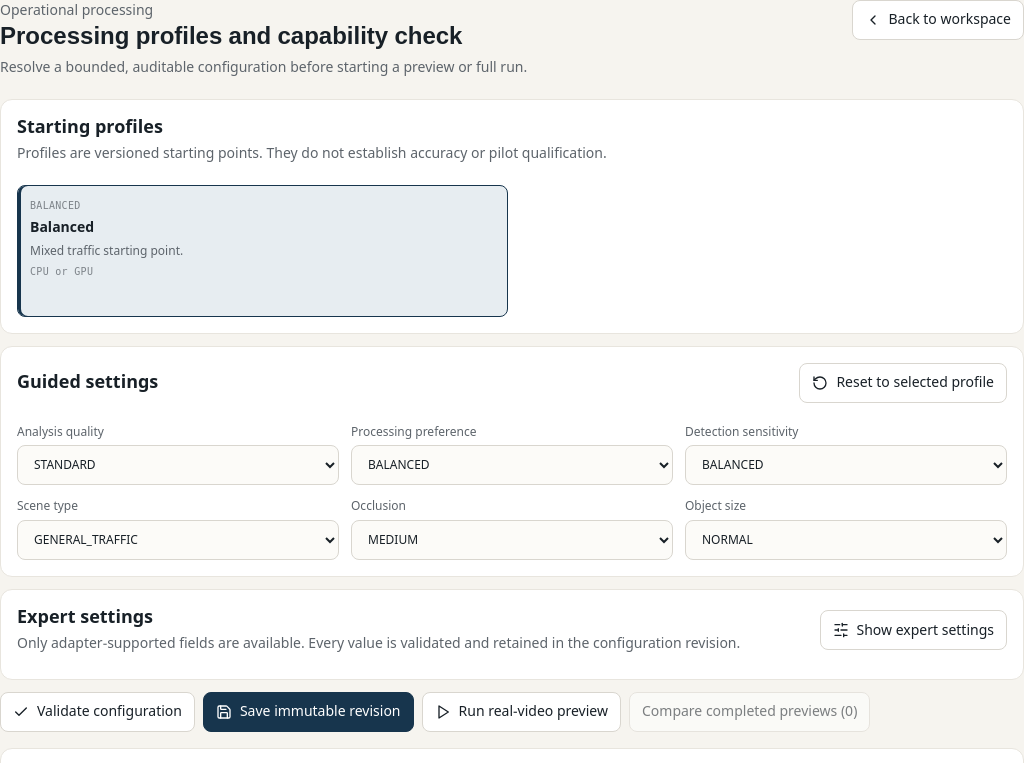
Test case: operational settings workspace › routes a managed upload to a bounded REAL_VIDEO preview without fixture_id
The image size is (1024, 763).
Click the button "Run real-video preview": (521, 712) [422, 692, 621, 732]
(page scrolled)
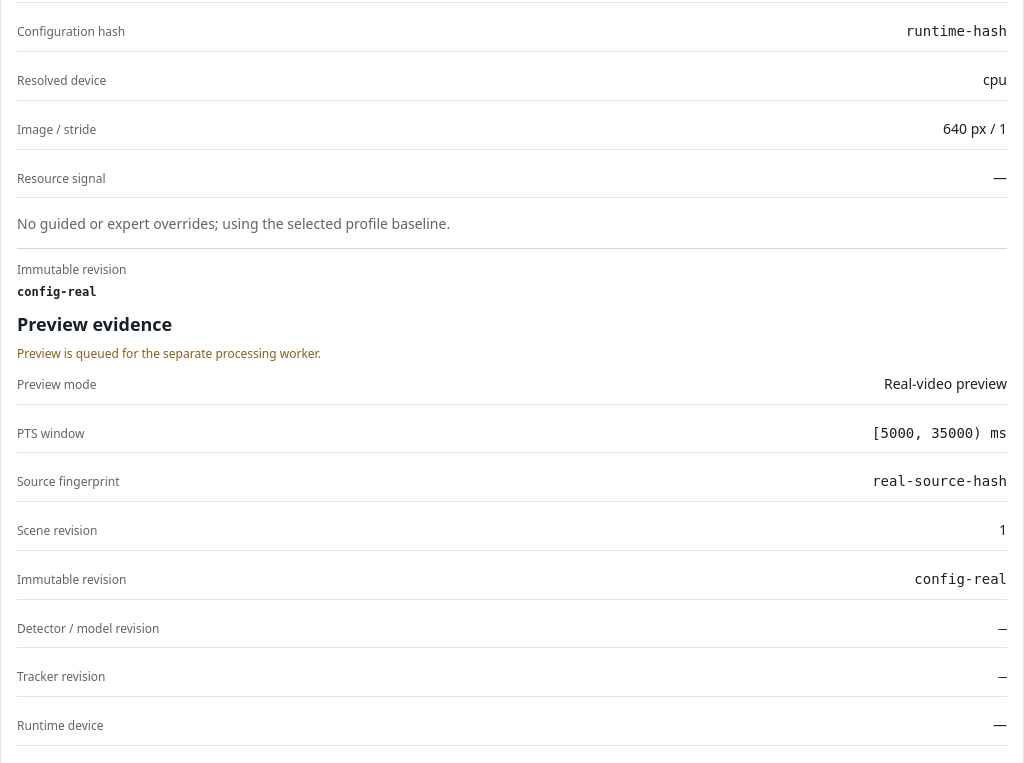
Now the text "Real-video preview" is shown, box [884, 374, 1007, 396]
